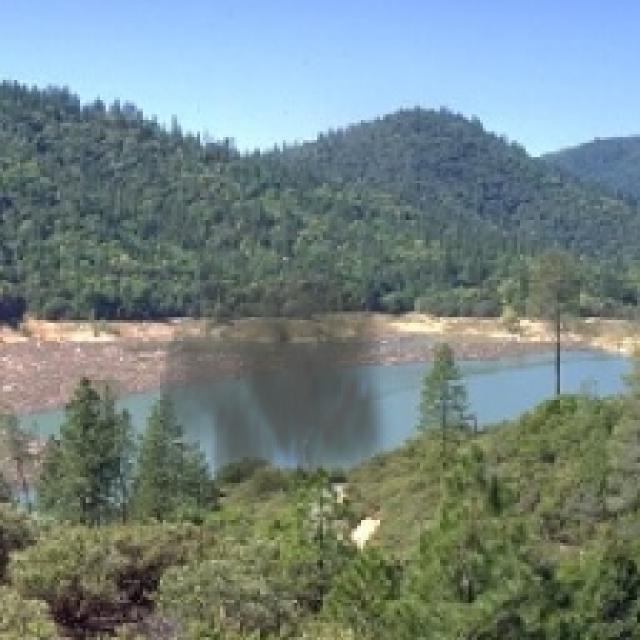smoke: (160, 228, 397, 503)
